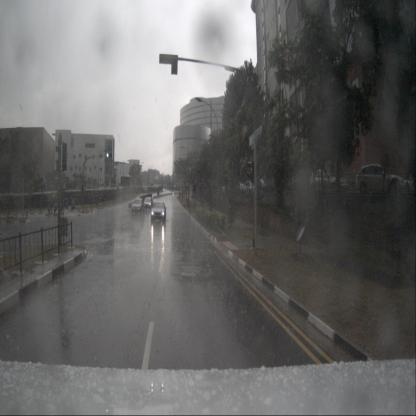human-pedestrian-adult: (64, 197, 69, 213), (53, 201, 57, 220), (48, 200, 51, 219), (61, 201, 63, 217), (64, 200, 66, 214)
vehicle-car: (355, 165, 405, 192), (310, 169, 340, 190), (254, 177, 274, 195), (400, 170, 416, 191), (151, 201, 166, 222), (131, 198, 145, 214), (245, 181, 258, 195), (143, 197, 154, 210), (237, 182, 247, 196)
